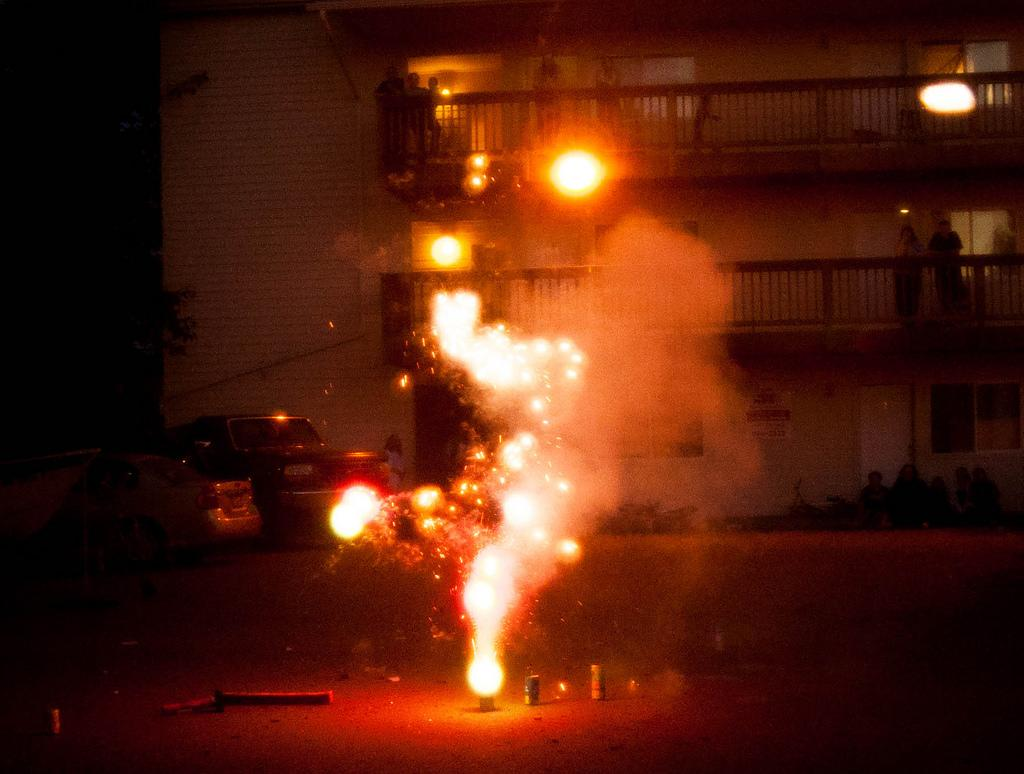fire: (480, 338, 540, 392), (332, 496, 378, 538), (470, 658, 508, 702)
